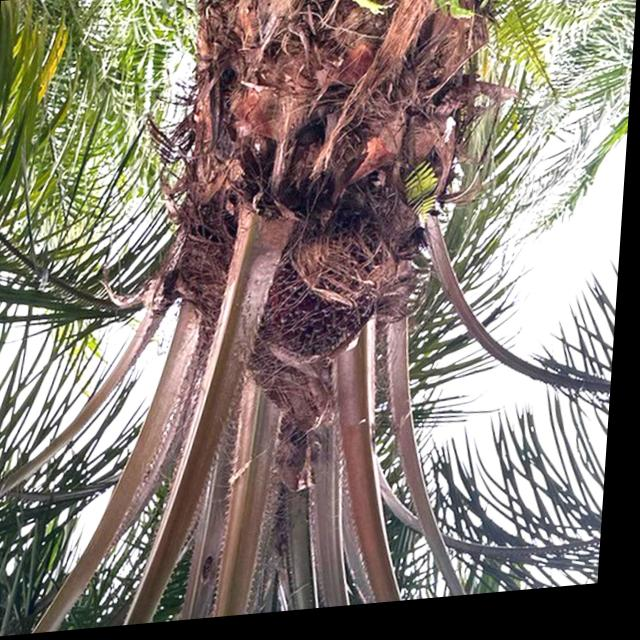ripe: (259, 264, 374, 377)
